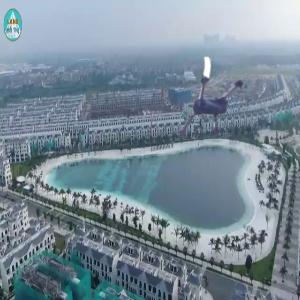drone: (161, 46, 263, 148)
